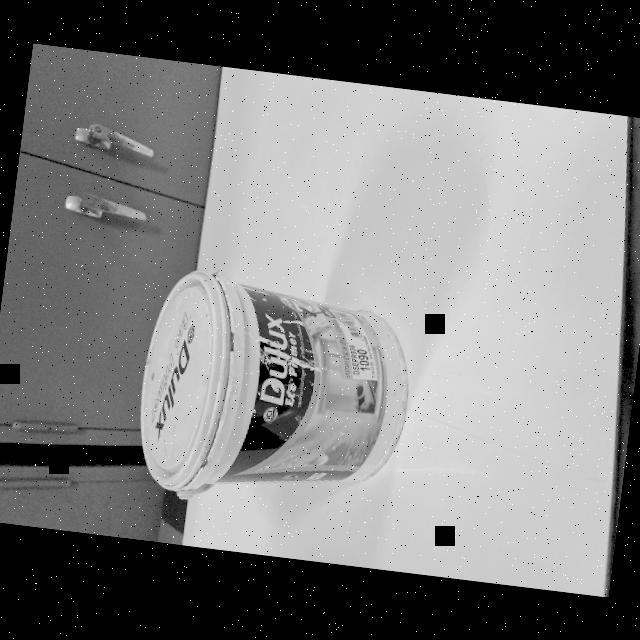paint_bucket: (119, 268, 428, 526)
